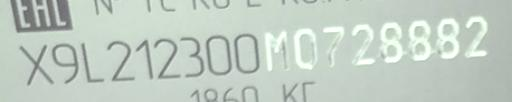letter: (18, 42, 54, 85), (103, 39, 137, 83), (151, 36, 183, 79), (48, 41, 80, 84), (262, 28, 292, 72), (232, 32, 262, 76), (348, 22, 378, 65), (434, 16, 462, 61), (204, 32, 234, 74), (462, 14, 490, 58), (78, 40, 106, 83), (406, 18, 432, 63), (320, 23, 346, 67), (292, 26, 318, 70), (179, 34, 205, 77), (378, 21, 404, 63), (132, 36, 154, 81)
